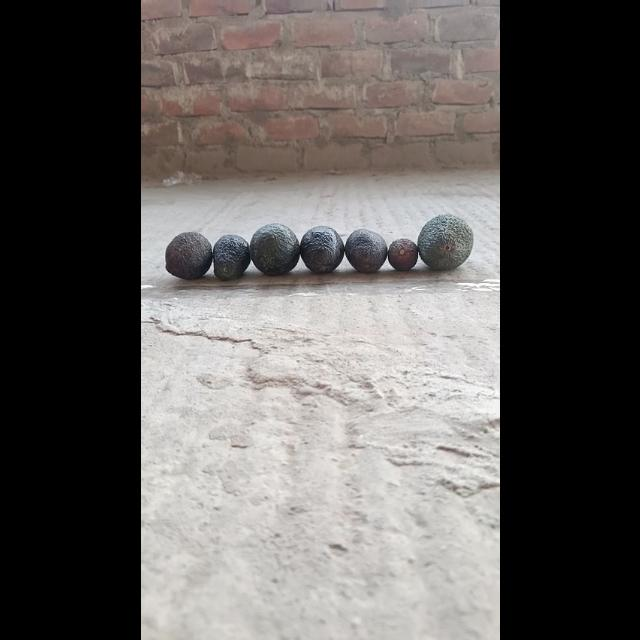Primera: (416, 212, 474, 270), (249, 223, 299, 275)
Segunda: (164, 230, 212, 280), (298, 226, 344, 274), (343, 227, 387, 273), (211, 233, 251, 280)
Tercera: (386, 236, 418, 272)
